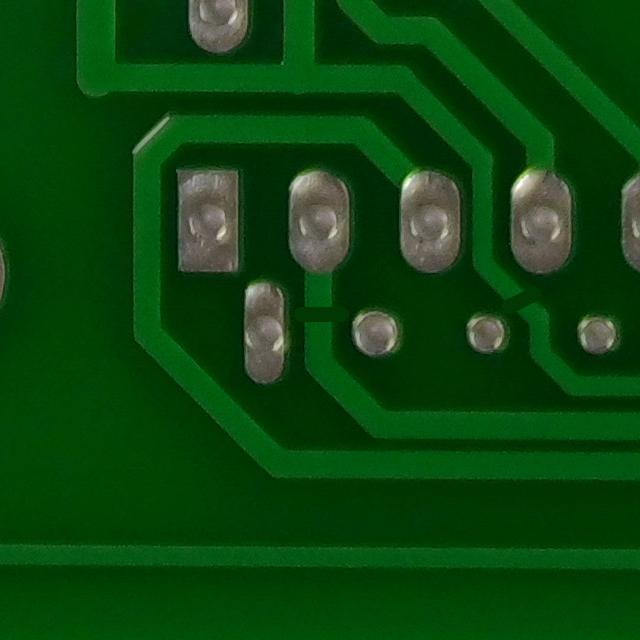open_circuit: (294, 294, 347, 346)
